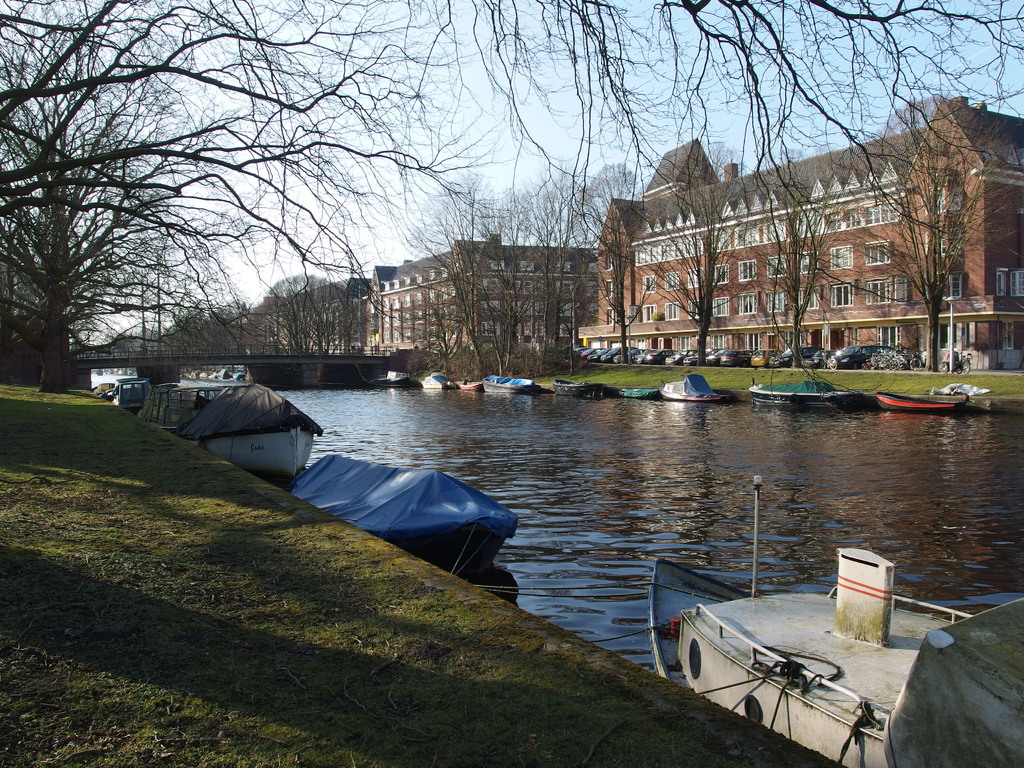Tree: (0, 0, 1023, 404), (830, 94, 1023, 376), (606, 149, 739, 371), (737, 144, 833, 388)
